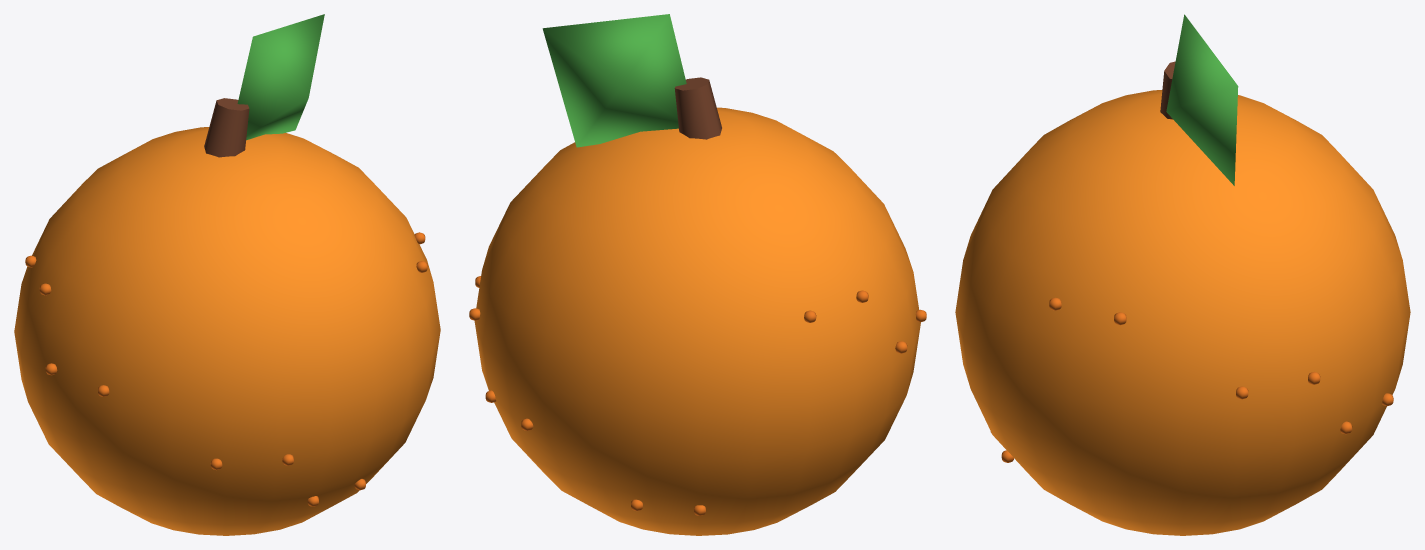
File: orange.glb
The picture shows the model from 3 angles, left to right: view 1: azimuth 30°, elevation 25°; view 2: azimuth 150°, elevation 25°; view 3: azimuth 270°, elevation 25°; orthographic projection. The views are drawn at different scales.
Visible parts, largest first — view 1: orange-orange, orange-leaf, orange-stem, orange-peel; view 2: orange-orange, orange-leaf, orange-stem, orange-peel; view 3: orange-orange, orange-leaf, orange-peel.
Part boxes in pixels (x1,y1,x2,y2): orange-orange: [14, 127, 440, 535]; orange-leaf: [237, 14, 324, 140]; orange-stem: [204, 98, 249, 157]; orange-peel: [25, 232, 427, 506]; orange-orange: [474, 107, 920, 535]; orange-leaf: [542, 14, 686, 147]; orange-stem: [674, 77, 721, 139]; orange-peel: [469, 276, 926, 515]; orange-orange: [955, 90, 1410, 535]; orange-leaf: [1166, 14, 1238, 185]; orange-peel: [990, 297, 1393, 462].
Bounding box in the file's own units: 1.76 × 2.12 × 1.7.
